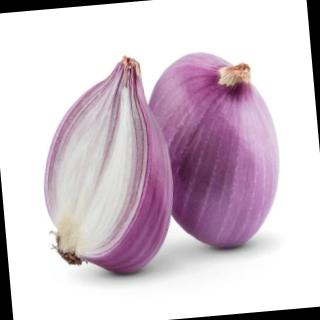Bawang Merah: (28, 41, 292, 286)
